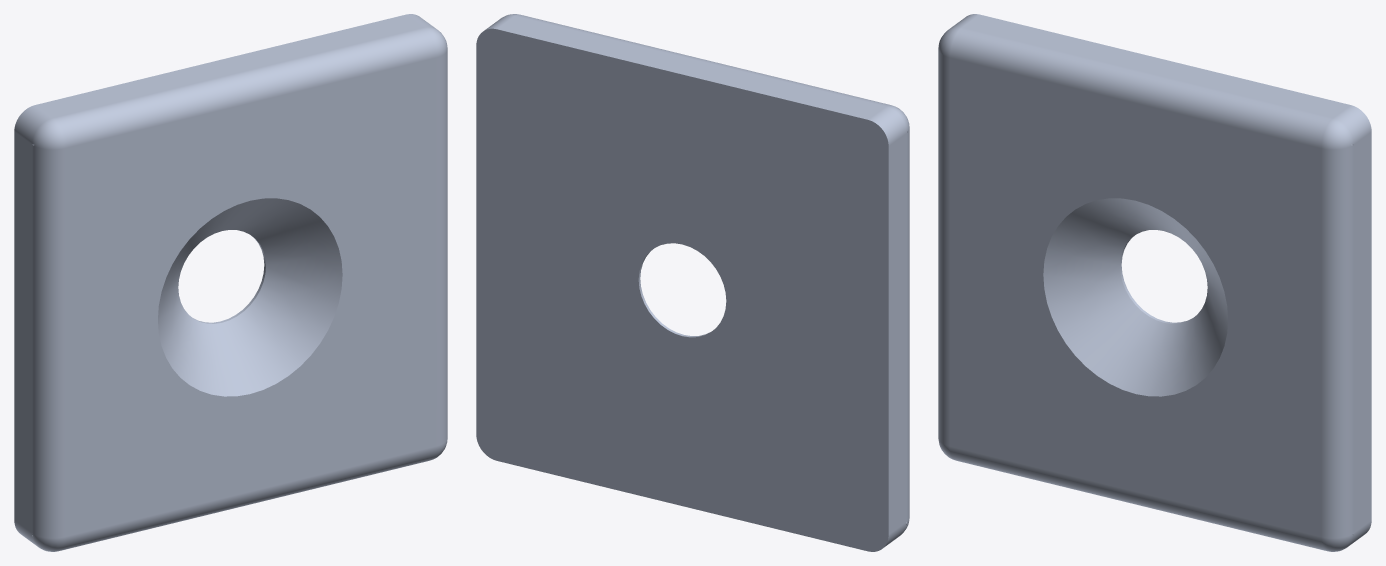
Rendered from TPGF-TPGF-408-4040-ZP.glb.
3 views of the same model, side by side, from view 1: azimuth 30°, elevation 25°; view 2: azimuth 150°, elevation 25°; view 3: azimuth 330°, elevation 25° (orthographic).
Visible parts, largest first — view 1: TPGF-408-4040(¼ρ¢´´FA jlcfa.com); view 2: TPGF-408-4040(¼ρ¢´´FA jlcfa.com); view 3: TPGF-408-4040(¼ρ¢´´FA jlcfa.com).
Boxes of the visible parts, x1=… form: TPGF-408-4040(¼ρ¢´´FA jlcfa.com): x1=14, y1=14, x2=447, y2=551; TPGF-408-4040(¼ρ¢´´FA jlcfa.com): x1=476, y1=14, x2=909, y2=551; TPGF-408-4040(¼ρ¢´´FA jlcfa.com): x1=938, y1=14, x2=1371, y2=551.
Bounding box in the file's own units: 0.04 × 0.04 × 0.005.
